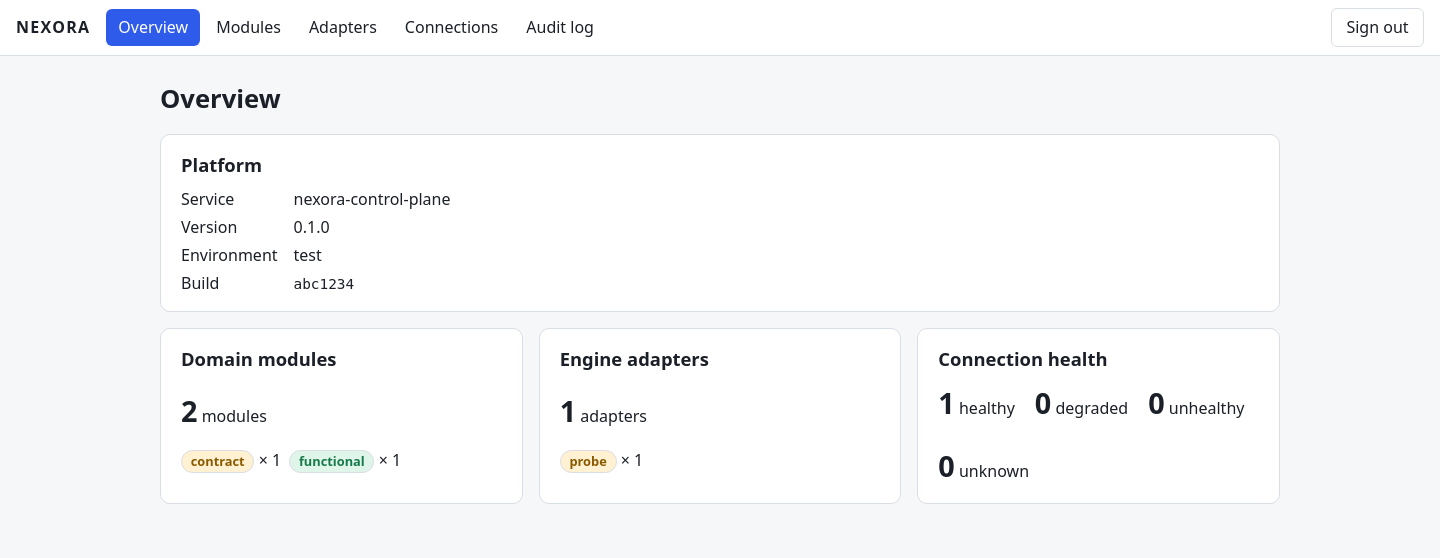
it: token gate › signs out back to the token screen
Expected: the heading "Overview" is shown, [160, 81, 281, 116]
Click the button "Sign out" at (1378, 27), box [1331, 8, 1424, 47]
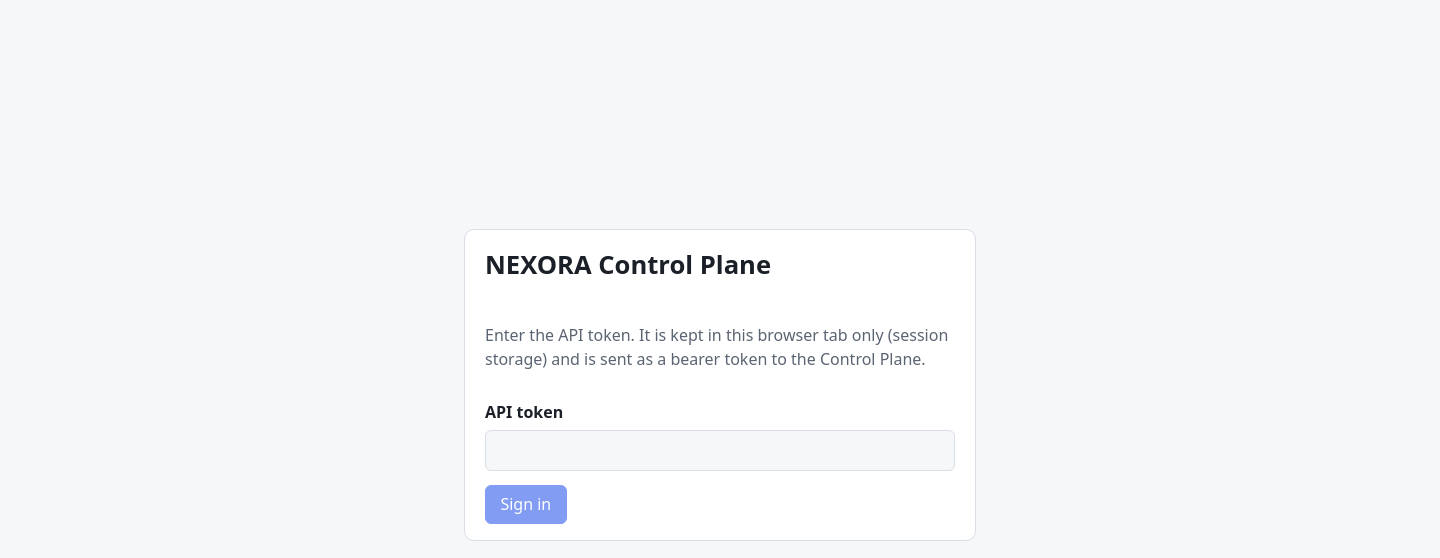
Expected: the password field labelled "API token" is shown, [485, 430, 955, 471]
